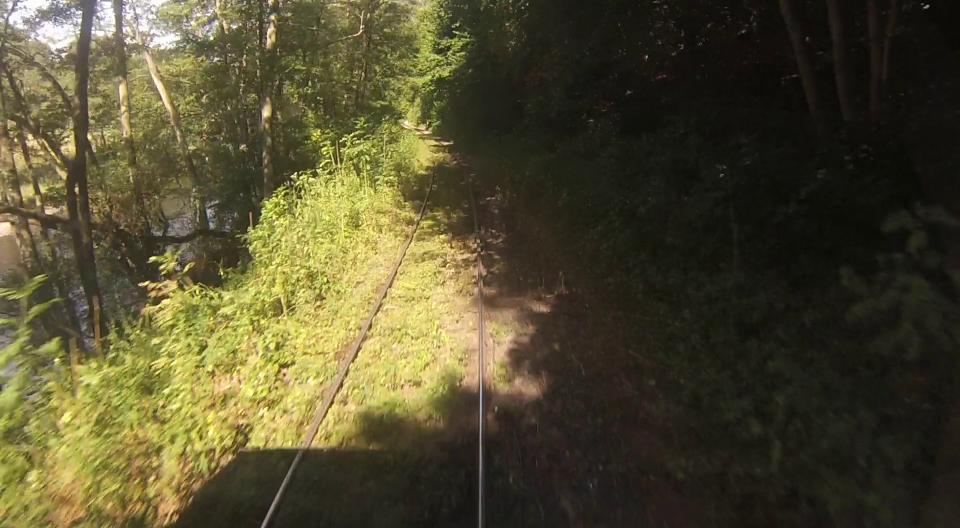Plant: (56, 125, 432, 528), (316, 212, 466, 446), (489, 321, 507, 349), (494, 360, 510, 385)
